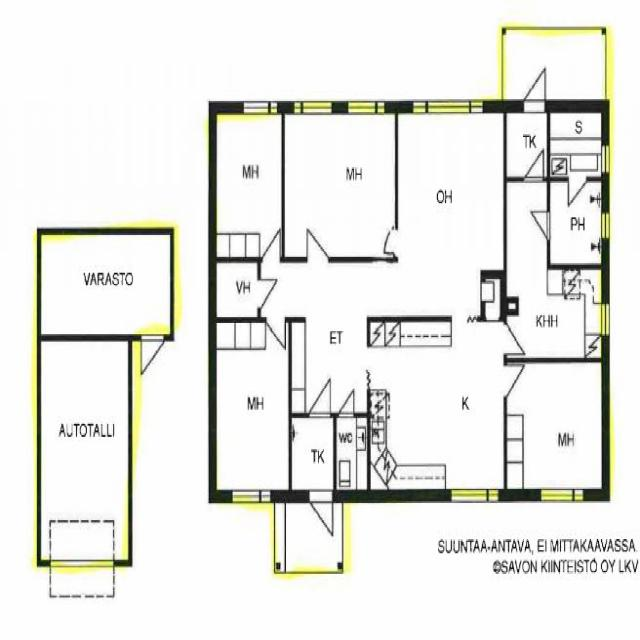door: (310, 490, 332, 541), (141, 335, 164, 379), (524, 67, 546, 113), (307, 222, 329, 263), (309, 379, 330, 418), (524, 144, 544, 182), (504, 366, 527, 398), (266, 317, 286, 352), (262, 228, 281, 263), (504, 324, 526, 354), (569, 177, 587, 211), (258, 280, 279, 309), (531, 212, 551, 239), (339, 389, 354, 419), (381, 229, 398, 253)
